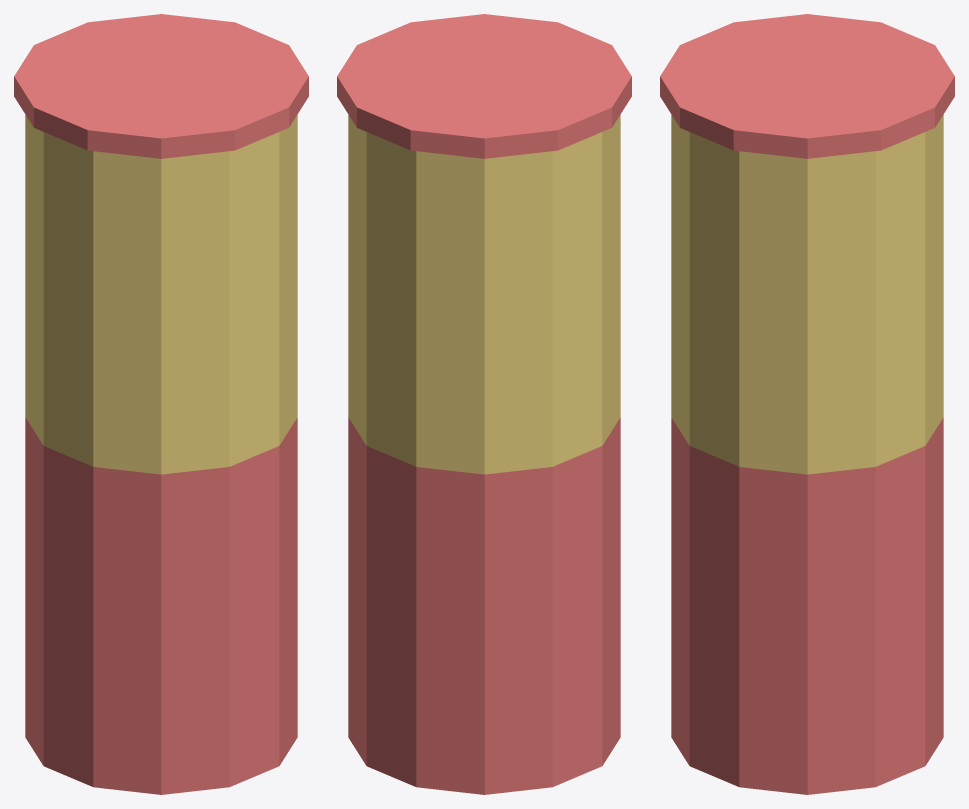
The model's file is Ürün40.fbx.
3 views of the same model, side by side, from view 1: azimuth 30°, elevation 25°; view 2: azimuth 150°, elevation 25°; view 3: azimuth 270°, elevation 25° (orthographic).
Visible parts, largest first — view 1: pCylinder25; view 2: pCylinder25; view 3: pCylinder25.
Boxes of the visible parts, <box> form: pCylinder25: <box>14,14,308,794</box>; pCylinder25: <box>337,14,631,794</box>; pCylinder25: <box>660,14,954,794</box>.
Bounding box in the file's own units: 11.6 × 28.73 × 11.6.
